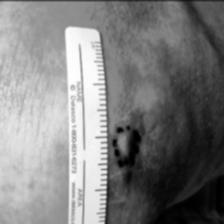Unclassified: (122, 132, 132, 154)
